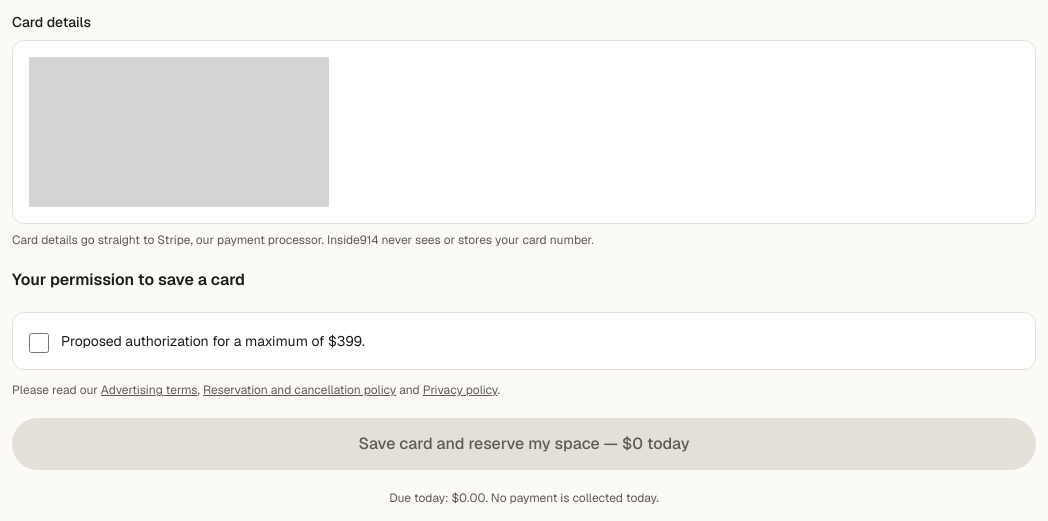
it: PaymentStep › hold expired by the time the card is saved: explains and offers to start over
This screenshot has width=1048, height=521.
Step 1. Click the checkbox → (39, 343), box [29,333,49,353]
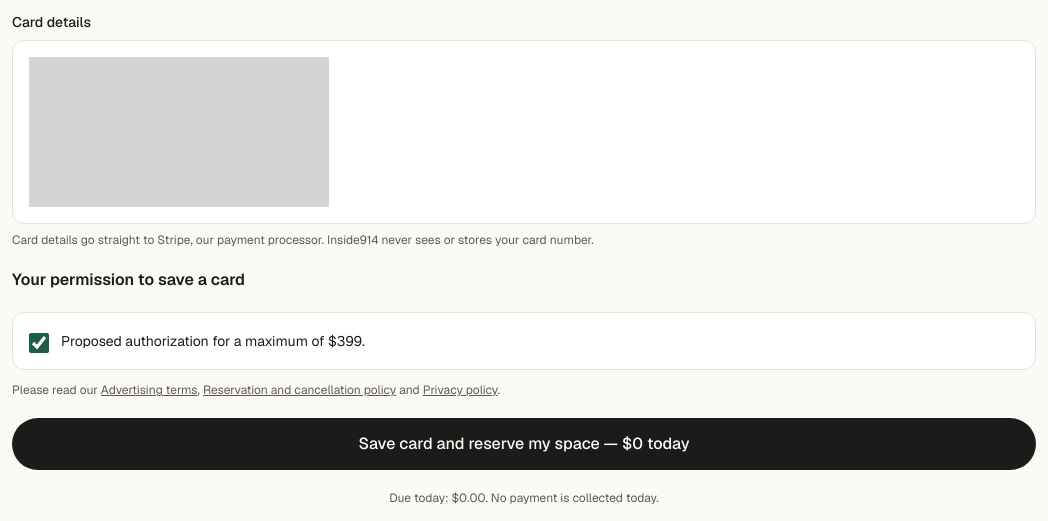
Step 2. Click the button "Save card and reserve my space — $0 today" → (524, 444), box [12,418,1036,470]
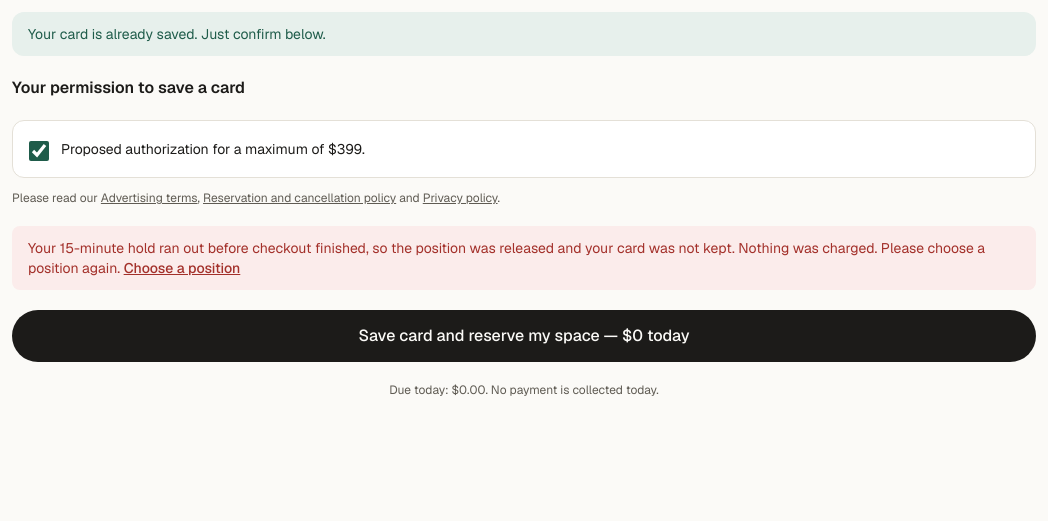
expect the message shows "hold ran out": met, box [28,239,985,277]
expect the link "Choose a position" is shown: met, box [124,259,240,277]
